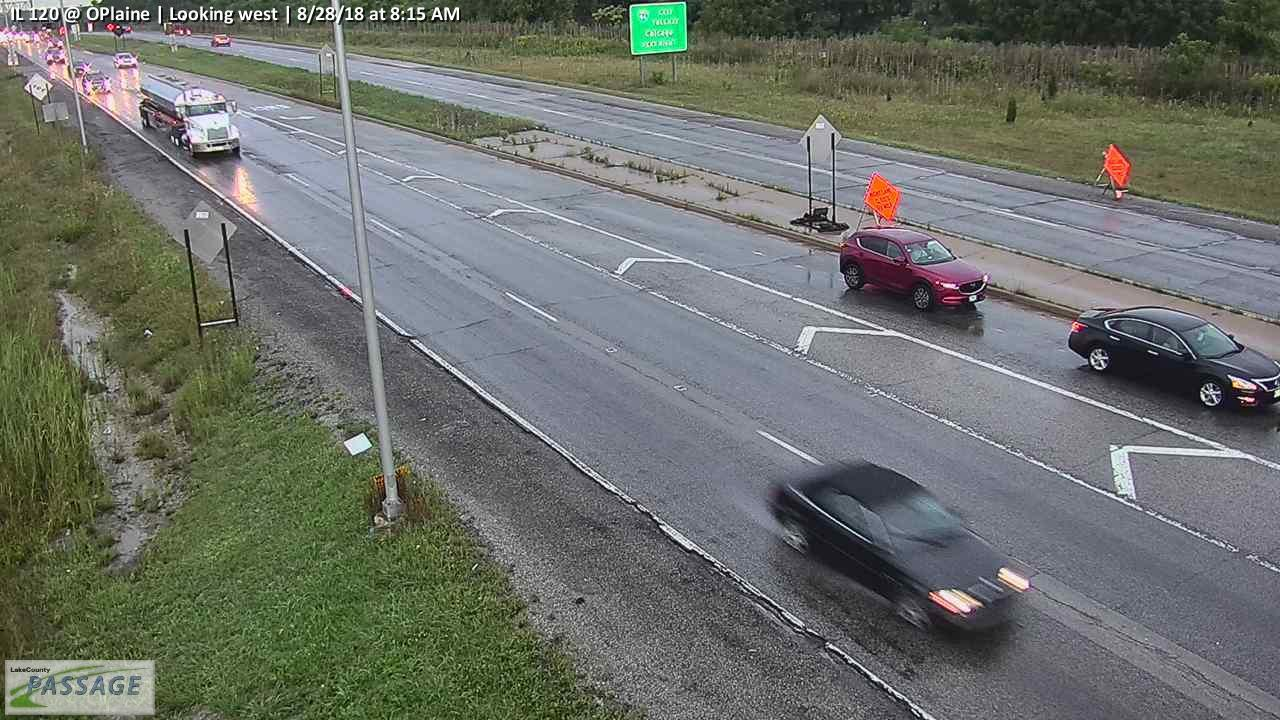SUV: (765, 457, 1031, 641), (838, 226, 990, 312), (82, 69, 113, 95), (212, 33, 230, 47)
Sedan: (1067, 304, 1280, 414), (113, 52, 138, 69)
Truck: (137, 71, 242, 159)
